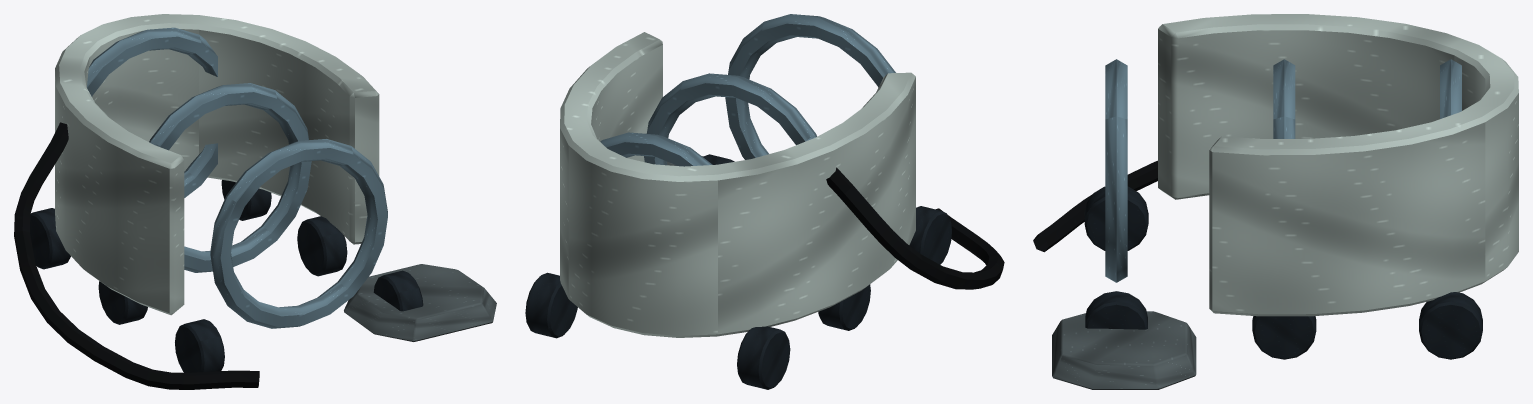
File: Pressure_Wreck_V2.fbx
3 renders of one model, left to right at view 1: azimuth 30°, elevation 25°; view 2: azimuth 150°, elevation 25°; view 3: azimuth 270°, elevation 25°, orthographic. The views are drawn at different scales.
Parts seen in each view (by area): view 1: Pressure_Wreck_V2; view 2: Pressure_Wreck_V2; view 3: Pressure_Wreck_V2.
Boxes of the visible parts, left/top/right/bottom form: Pressure_Wreck_V2: left=14, top=14, right=496, bottom=389; Pressure_Wreck_V2: left=525, top=14, right=1004, bottom=389; Pressure_Wreck_V2: left=1033, top=14, right=1518, bottom=389.
Size of the model in its own units: 3.87 by 2 by 3.79.
